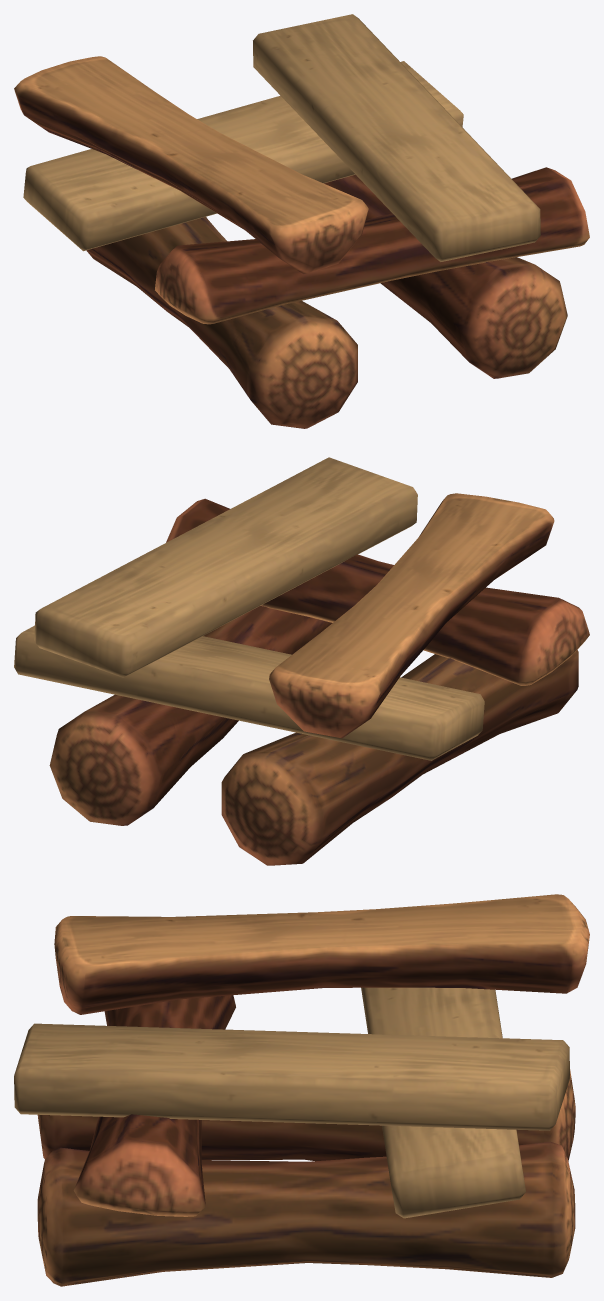
The model's file is SM_Logs_LogCabin_02.obj.
The picture shows the model from 3 angles, top to bottom: view 1: azimuth 30°, elevation 25°; view 2: azimuth 150°, elevation 25°; view 3: azimuth 270°, elevation 25°; orthographic projection. The views are drawn at different scales.
Parts seen in each view (by area): view 1: SM_Logs_LogCabin_02_MI_CampFire_Assets; view 2: SM_Logs_LogCabin_02_MI_CampFire_Assets; view 3: SM_Logs_LogCabin_02_MI_CampFire_Assets.
Boxes of the visible parts, x1,y1,x2,y2 form: SM_Logs_LogCabin_02_MI_CampFire_Assets: (14,14,589,428); SM_Logs_LogCabin_02_MI_CampFire_Assets: (14,457,589,865); SM_Logs_LogCabin_02_MI_CampFire_Assets: (14,894,589,1286).
Size of the model in its own units: 0.544 by 0.2648 by 0.5883.
